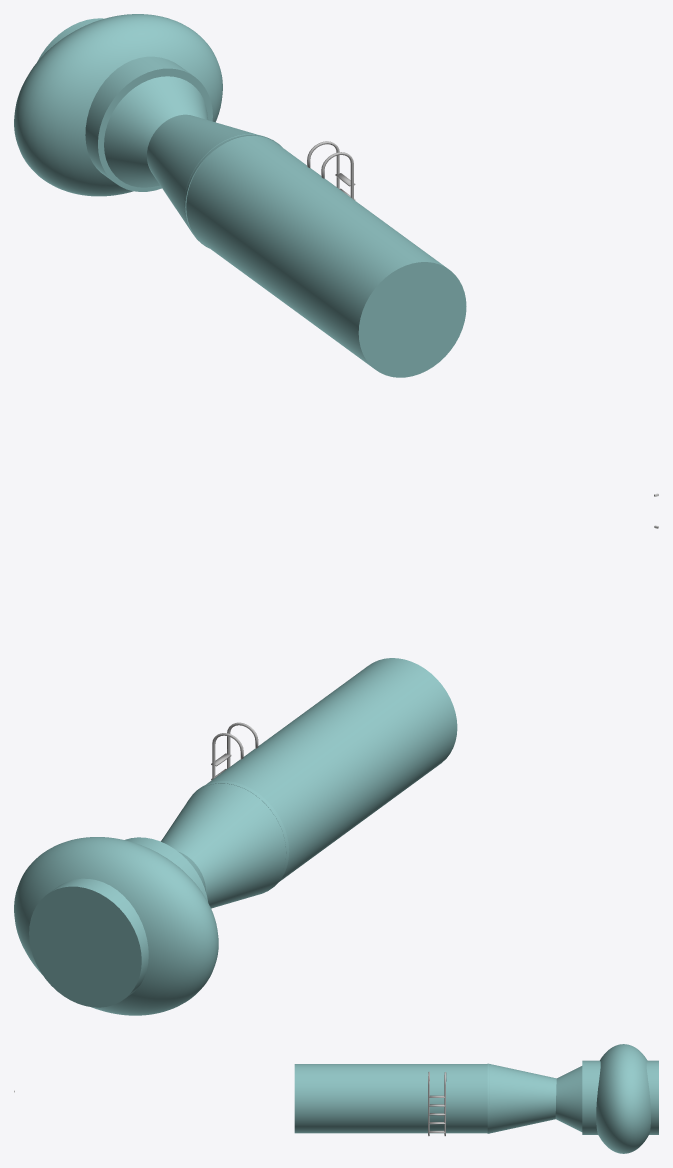
File: enshinryokusouchi-hontai4.fbx
3 views of the same model, one above another, from view 1: azimuth 30°, elevation 25°; view 2: azimuth 150°, elevation 25°; view 3: azimuth 270°, elevation 25° (orthographic). The views are drawn at different scales.
Parts seen in each view (by area): view 1: 円柱, 球, 円錐, 円錐 2, 円柱 2, pool_ladder; view 2: 円柱, 球, 円柱 2, 円錐 2, pool_ladder; view 3: 円柱, 球, 円錐 2, 円柱 2, 円錐, pool_ladder.
Part boxes in pixels (box(x1,y1,x2,y2)): 円柱: box(184, 134, 466, 377); 球: box(14, 14, 222, 196); 円錐: box(104, 76, 208, 187); 円錐 2: box(147, 114, 282, 248); 円柱 2: box(37, 18, 212, 191); pool_ladder: box(307, 141, 355, 200); 円柱: box(189, 658, 457, 881); 球: box(14, 837, 218, 1015); 円柱 2: box(29, 837, 207, 1007); 円錐 2: box(161, 781, 289, 908); pool_ladder: box(211, 722, 258, 780); 円柱: box(294, 1064, 489, 1133); 球: box(596, 1044, 650, 1153); 円錐 2: box(487, 1063, 556, 1133); 円柱 2: box(582, 1060, 658, 1134); 円錐: box(555, 1066, 582, 1131); pool_ladder: box(428, 1071, 446, 1136).
Size of the model in its own units: 20 by 16.25 by 99.77.
